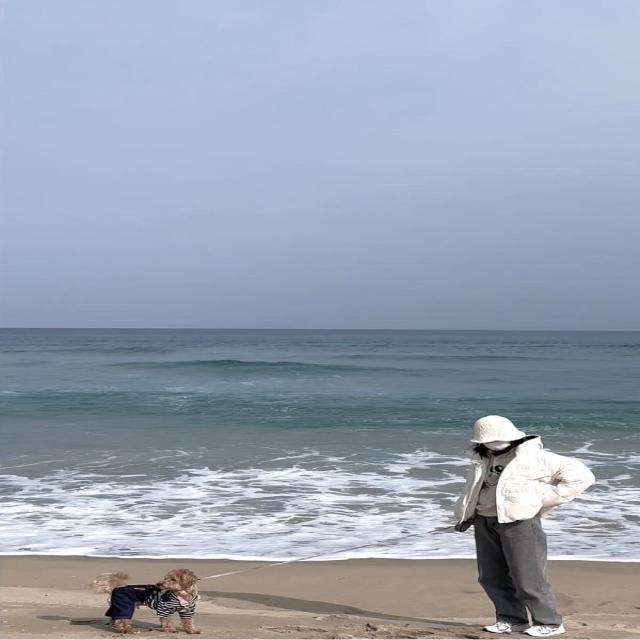denimpants: (477, 515, 568, 630)
padding: (457, 433, 599, 521)
